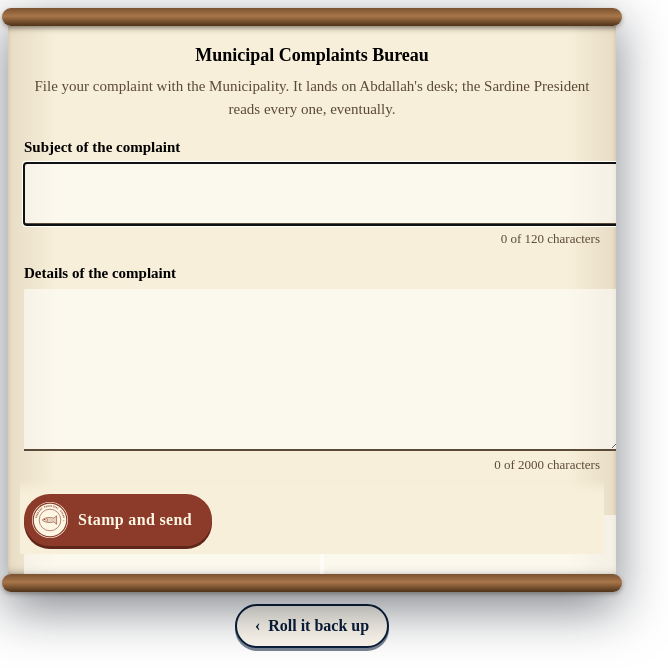
Test: the Bureau visit: the scroll › refuses an empty stamp with the form rules, and sends nothing
This screenshot has width=668, height=668.
Click the button "Stamp and send": (118, 520) [24,494,212,546]
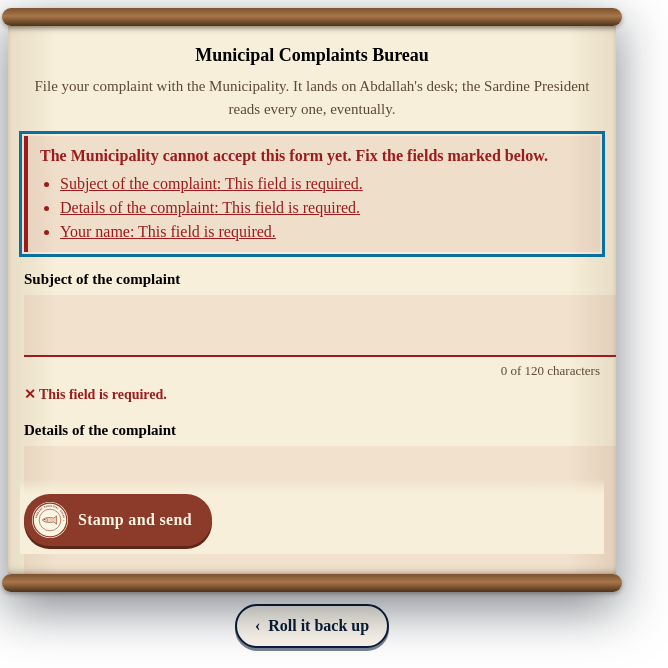
Result: the element with test id "complaint-error-summary" is shown at [24,136,600,252]
